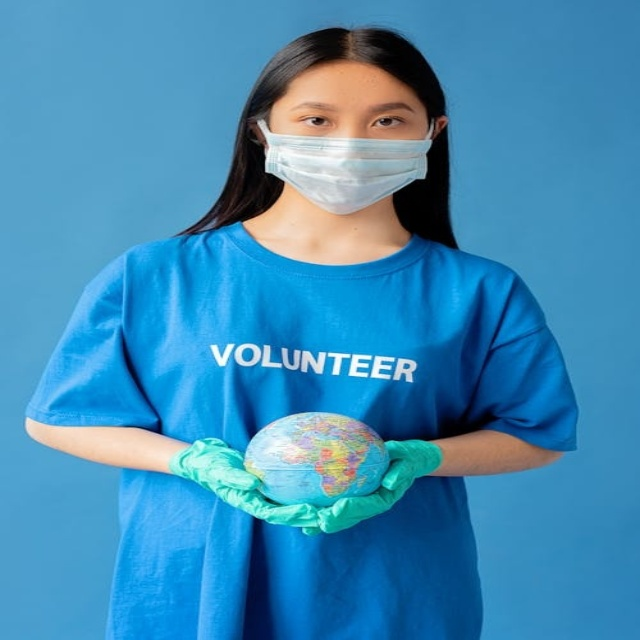Guantes: (169, 437, 319, 530), (299, 439, 443, 534)
Mascara: (255, 116, 434, 213)
Sin_gafas: (275, 97, 426, 139)
